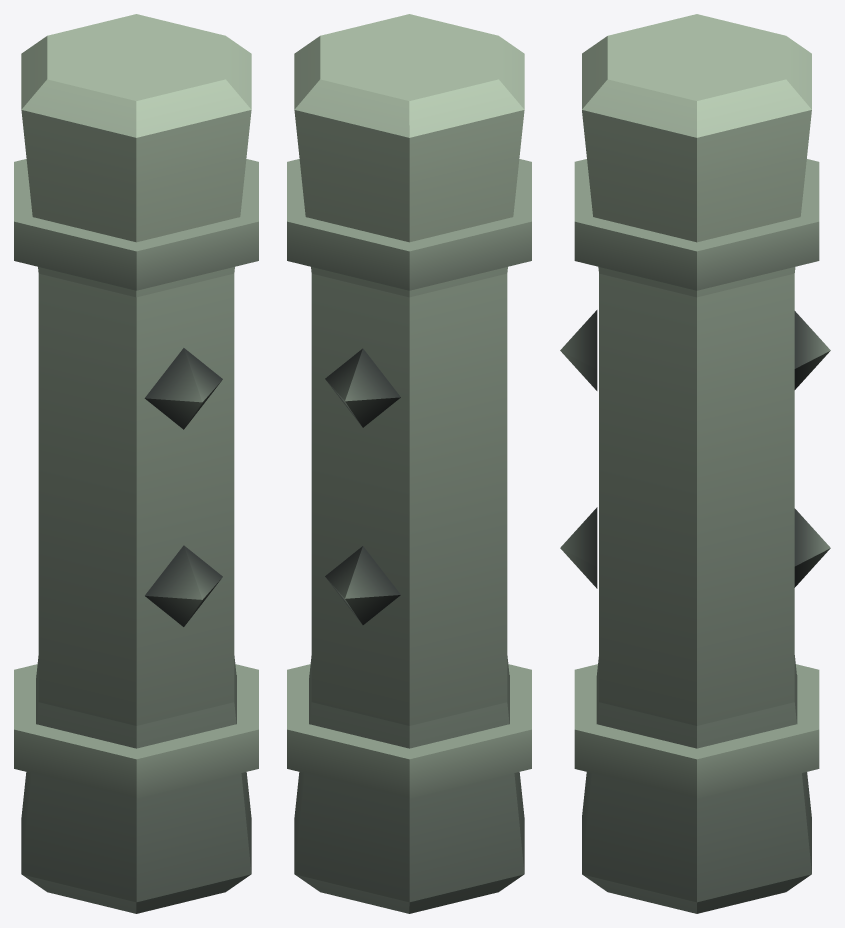
The model's file is decor_004.fbx.
3 views of the same model, side by side, from view 1: azimuth 30°, elevation 25°; view 2: azimuth 150°, elevation 25°; view 3: azimuth 270°, elevation 25° (orthographic).
Parts seen in each view (by area): view 1: decor.004; view 2: decor.004; view 3: decor.004.
Boxes of the visible parts, box(x1,y1,x2,y2) form: decor.004: box(14, 14, 258, 913); decor.004: box(287, 14, 531, 913); decor.004: box(560, 14, 830, 913).
Bounding box in the file's own units: 10.11 × 32.09 × 9.69.
